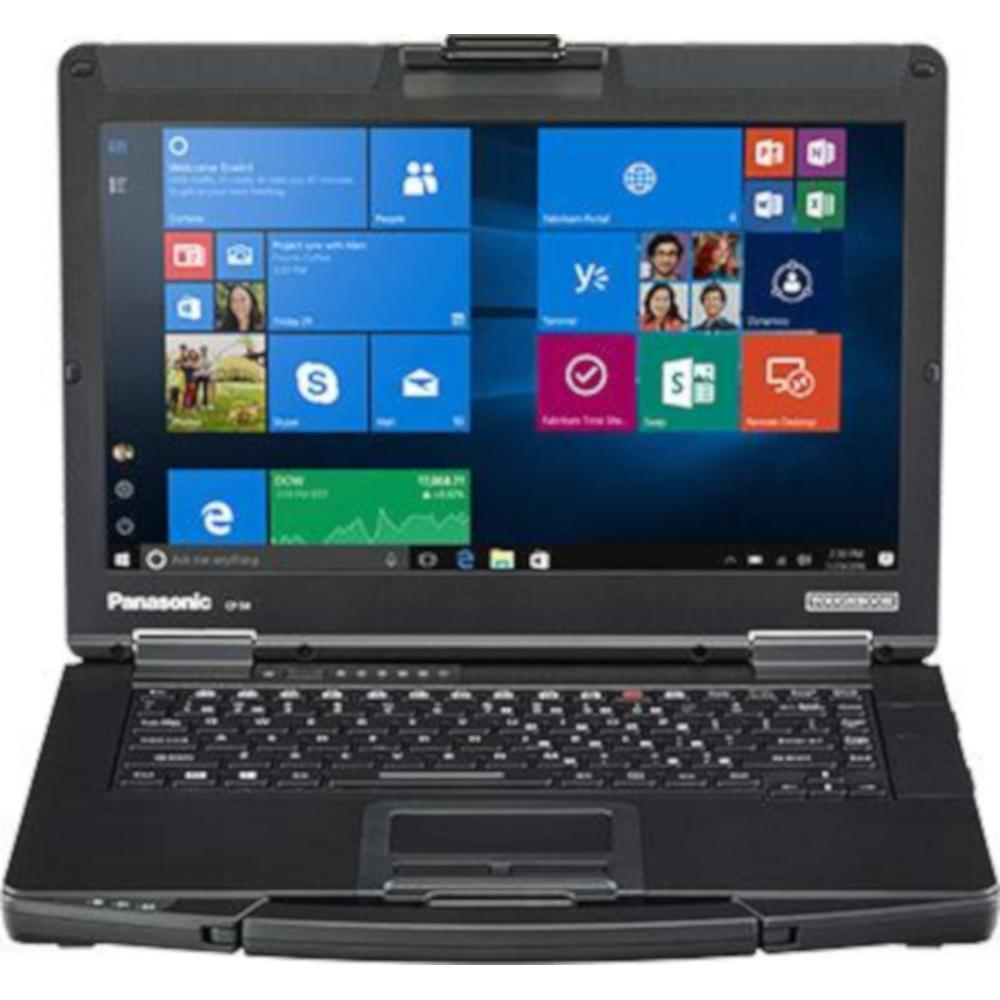Laptop: (1, 24, 1000, 969)
